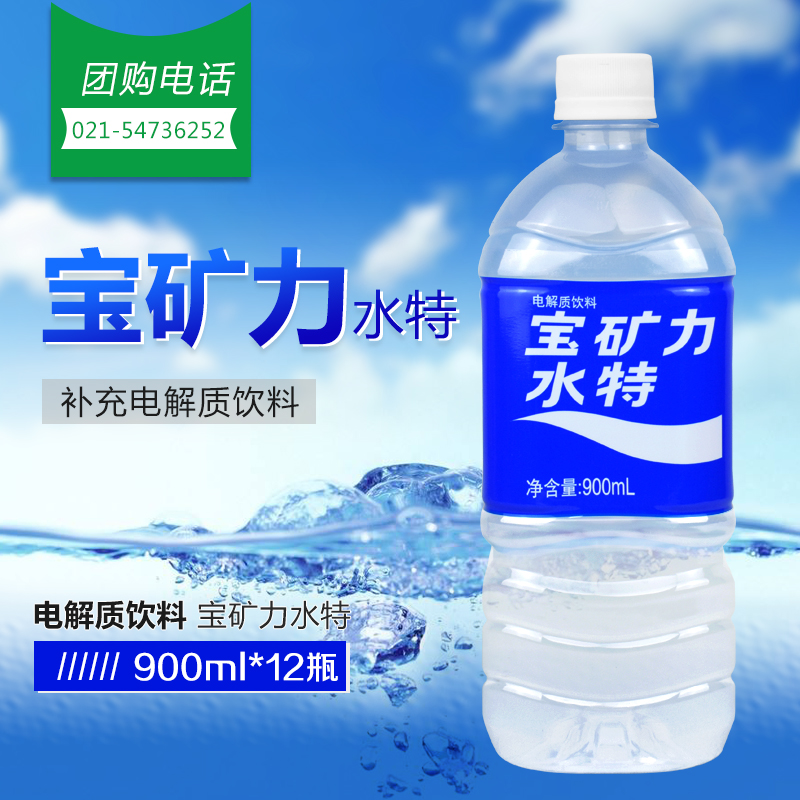POCARI SWEAT: (485, 47, 738, 782)
